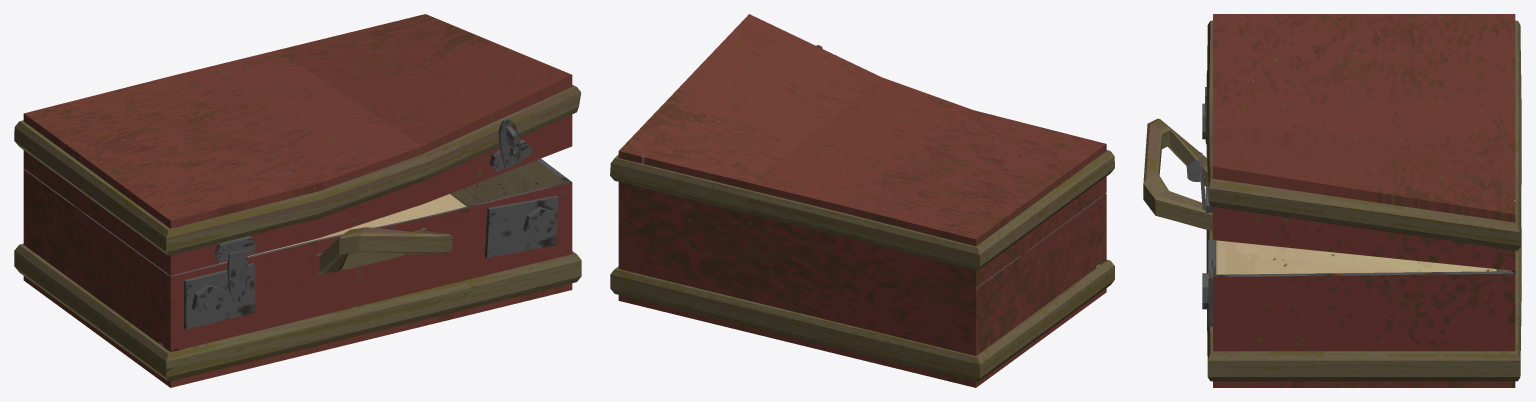
The model's file is hive.fbx.
3 views of the same model, side by side, from view 1: azimuth 30°, elevation 25°; view 2: azimuth 150°, elevation 25°; view 3: azimuth 270°, elevation 25° (orthographic). The views are drawn at different scales.
Parts seen in each view (by area): view 1: Cube.032; view 2: Cube.032; view 3: Cube.032.
Part boxes in pixels (bbox=[...]): Cube.032: bbox=[14, 14, 581, 387]; Cube.032: bbox=[610, 14, 1114, 387]; Cube.032: bbox=[1143, 14, 1521, 387].
Size of the model in its own units: 81.75 by 40.41 by 62.51.
